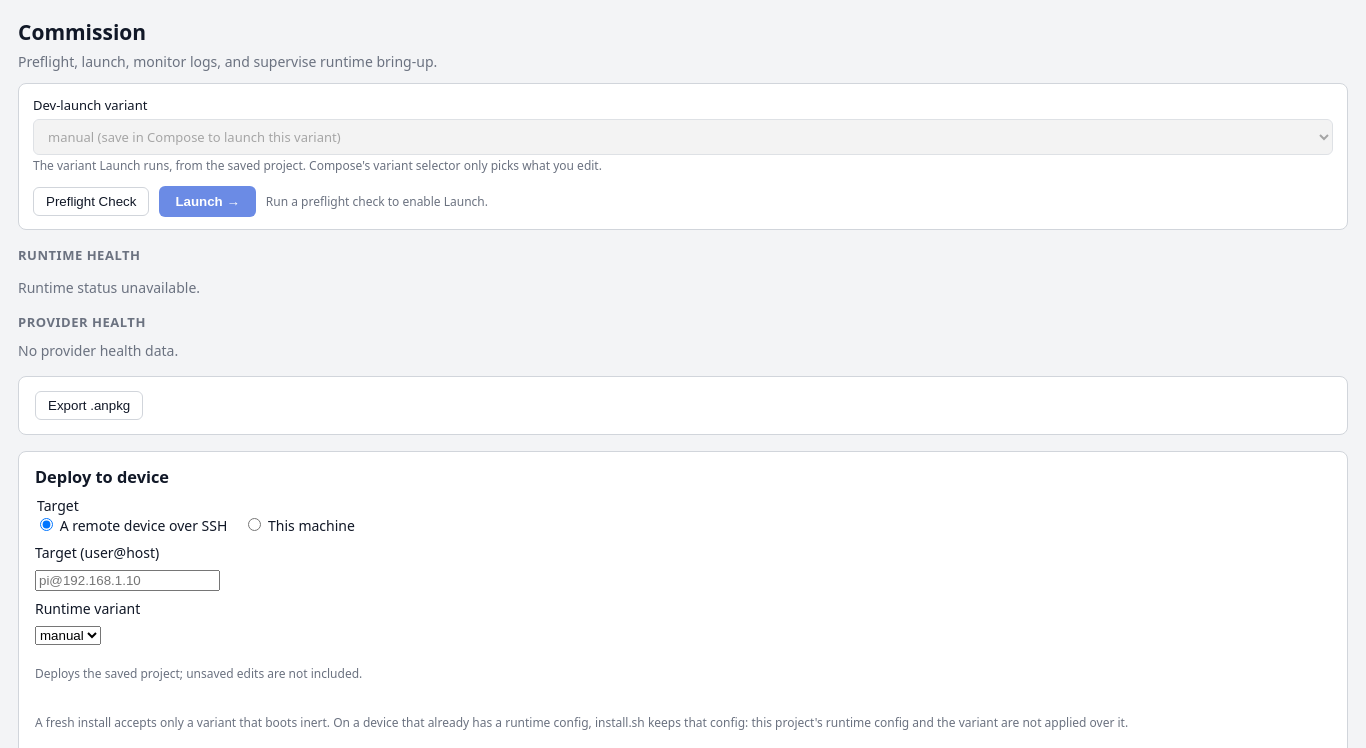
Test: Commission.svelte — the installed runtime service (wb#581) › stops the runtime on a remote device after a confirm naming it
This screenshot has width=1366, height=748.
Type "pi@rig" into the field labelled "Target (user@host)" at (128, 580), box [35,570,220,591]
(page scrolled)
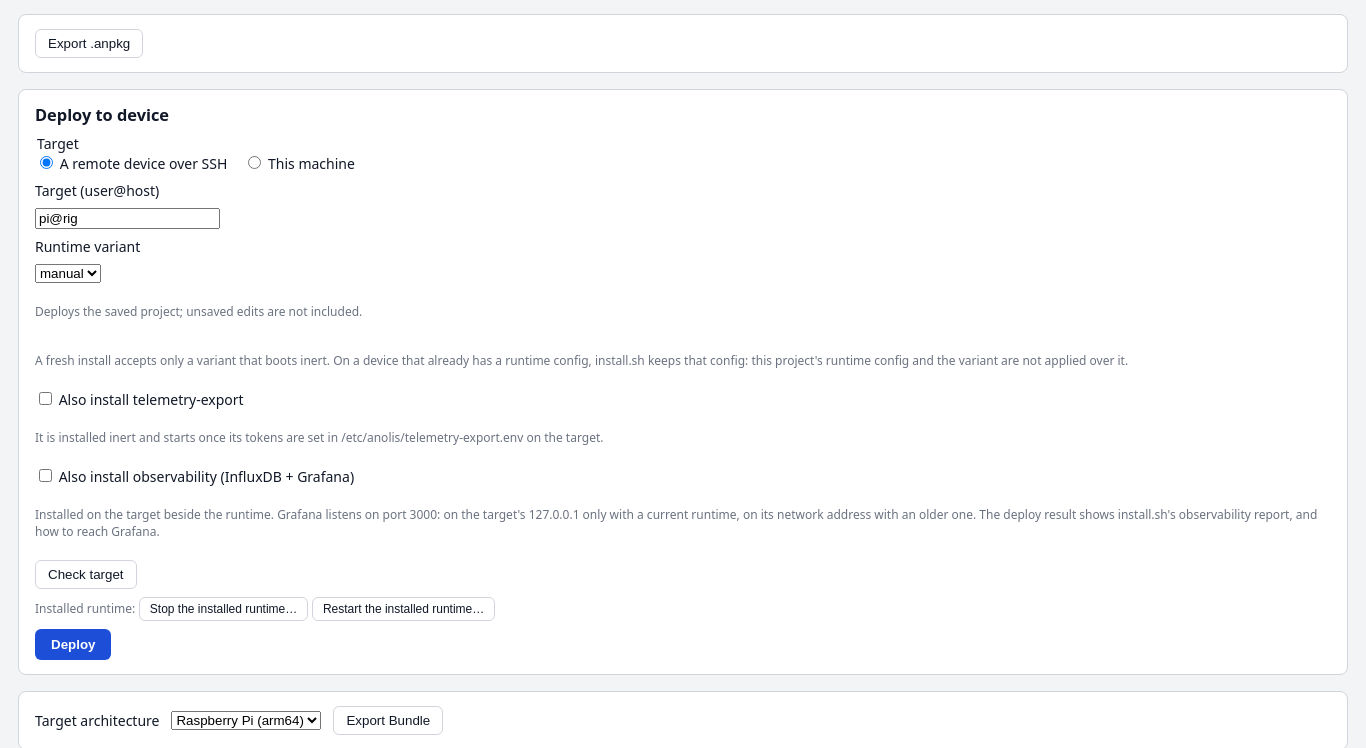
Click the button "Stop the installed runtime…" at (224, 609), box [139,597,308,621]
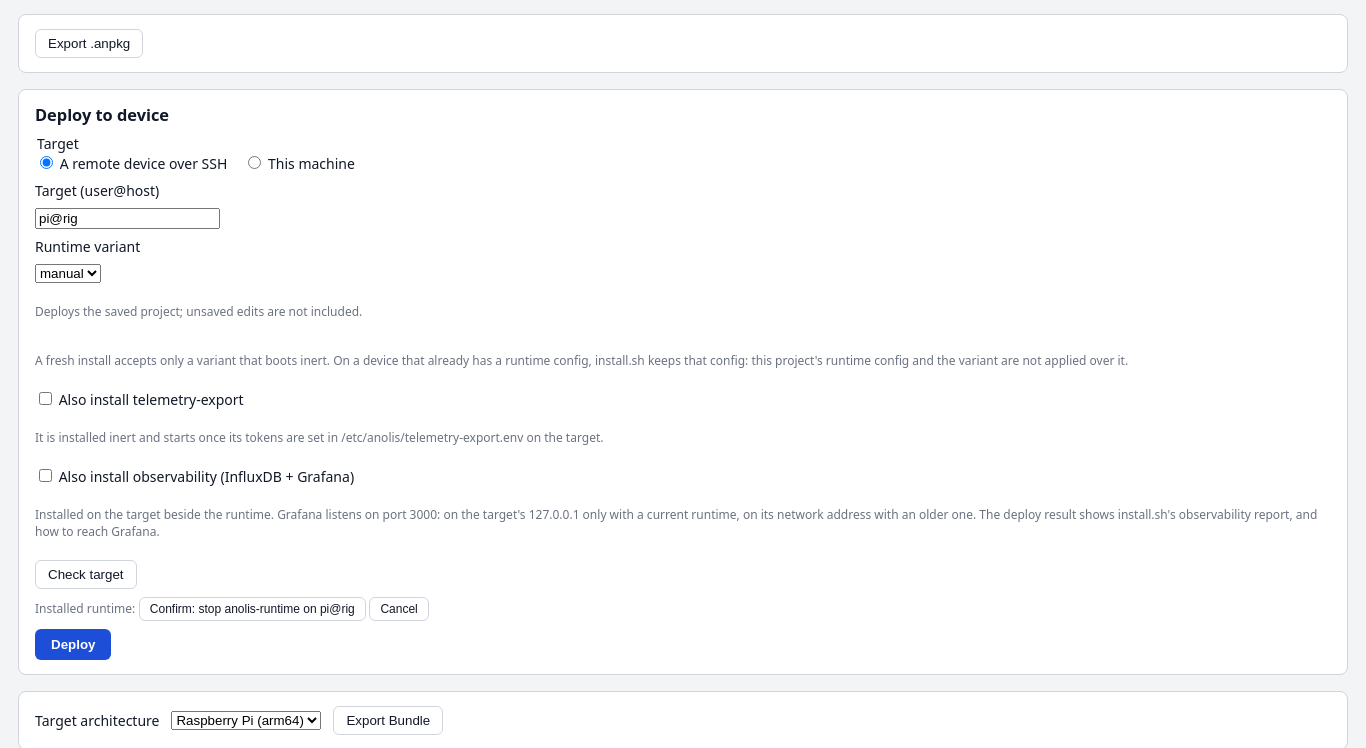
Click the button "Confirm: stop anolis-runtime on pi@rig" at (252, 609), box [139,597,366,621]
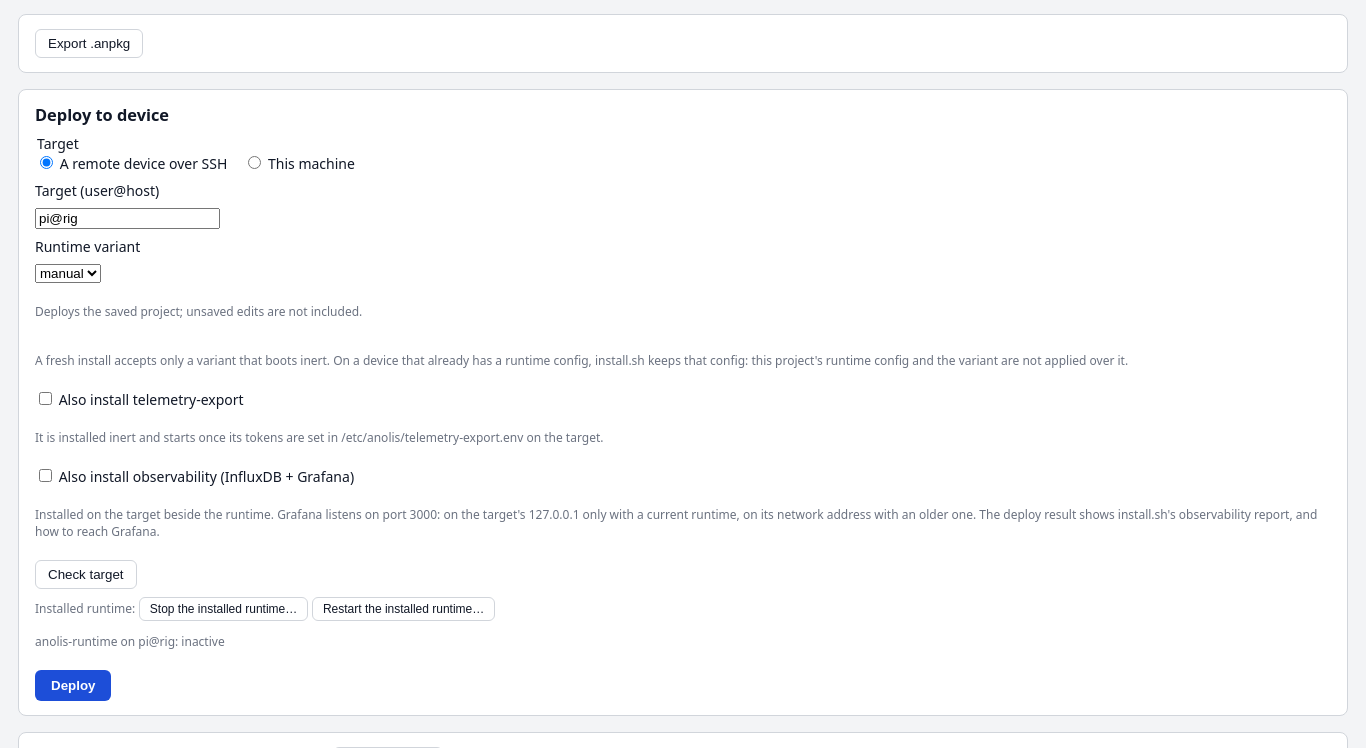
Expected: the text with test id "service-result" reads "anolis-runtime on pi@rig: inactive", [35,633,225,650]
